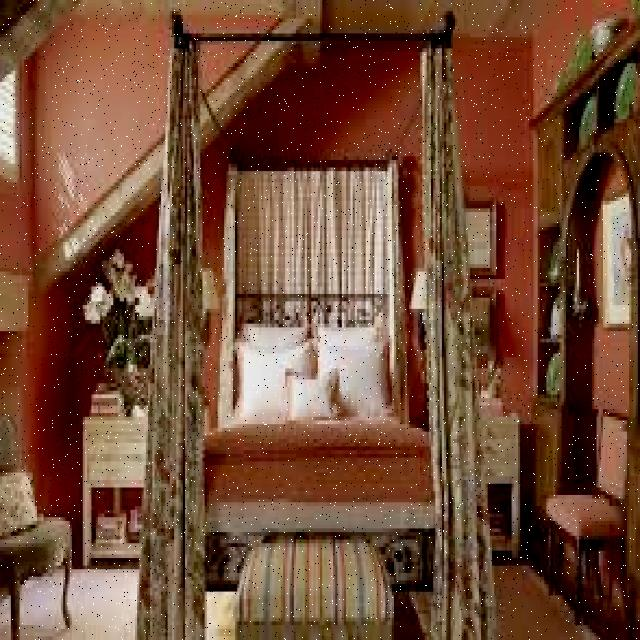bed: (192, 291, 443, 529)
